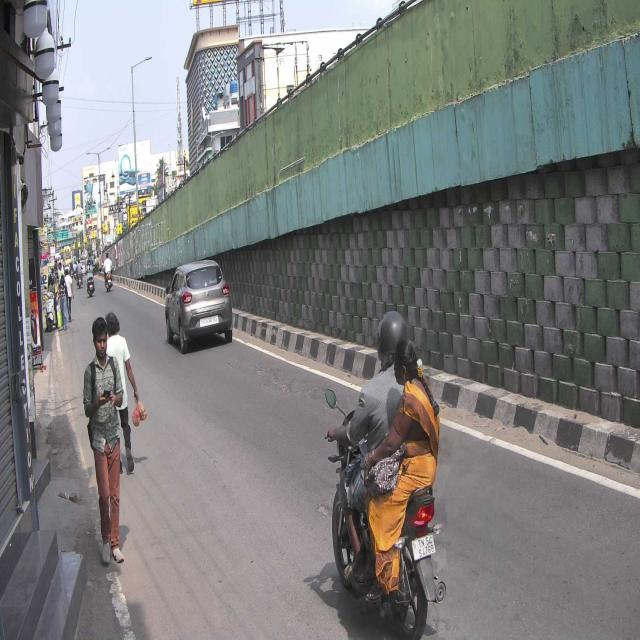double_rider: (324, 306, 448, 640)
